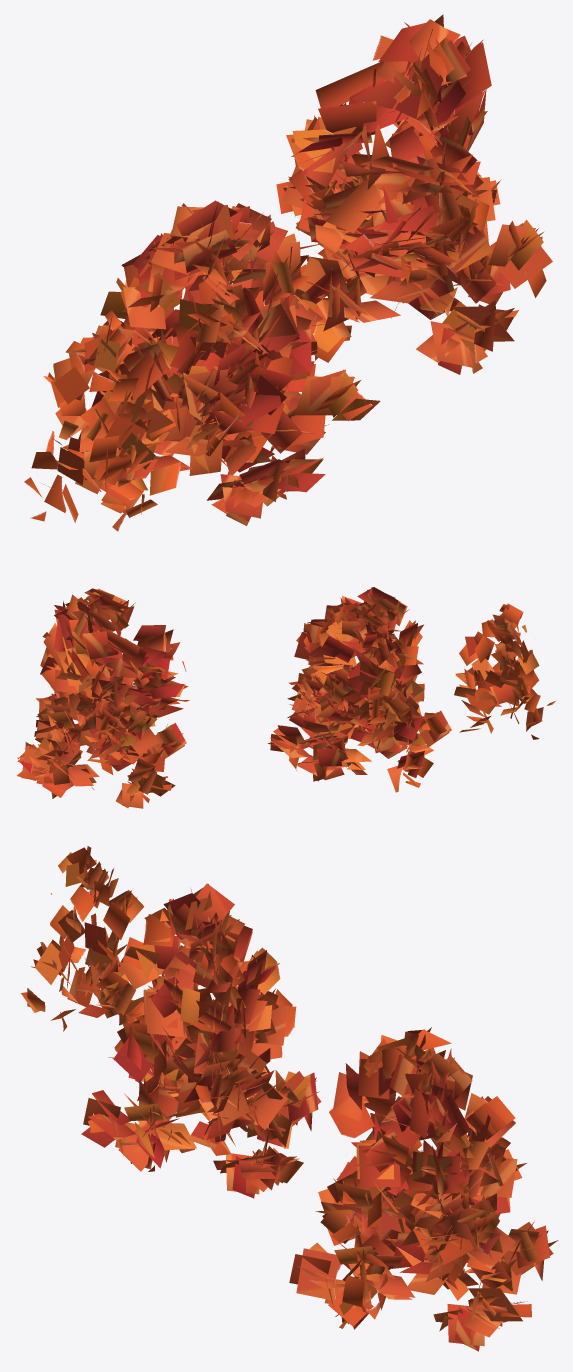
File: AutumnLeaves3.obj
The picture shows the model from 3 angles, top to bottom: view 1: azimuth 30°, elevation 25°; view 2: azimuth 150°, elevation 25°; view 3: azimuth 270°, elevation 25°; orthographic projection. The views are drawn at different scales.
Parts seen in each view (by area): view 1: Leabes; view 2: Leabes; view 3: Leabes.
Part boxes in pixels (x1,y1,x2,y2): Leabes: (24, 14, 552, 531); Leabes: (17, 587, 555, 808); Leabes: (21, 846, 558, 1351).
Size of the model in its own units: 0.9776 by 0.4633 by 0.7524.
